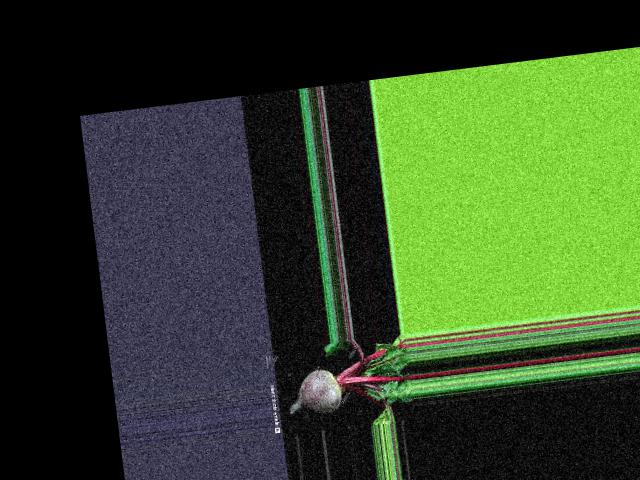beet: (281, 333, 415, 434)
